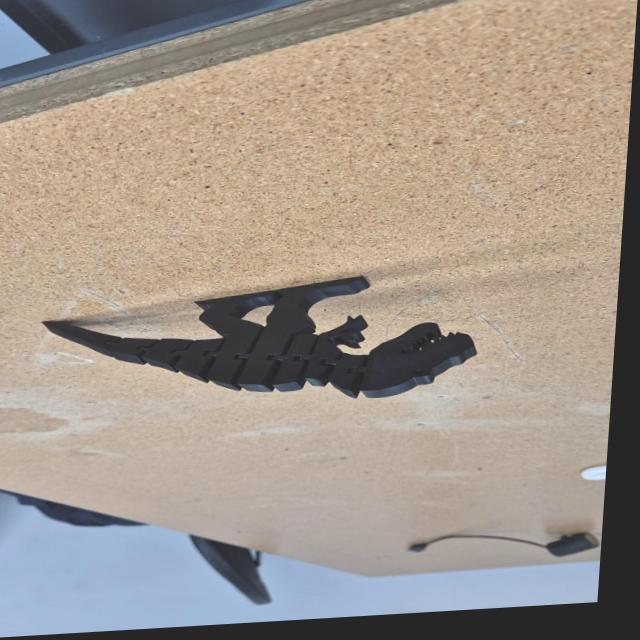dino: (33, 267, 486, 420)
